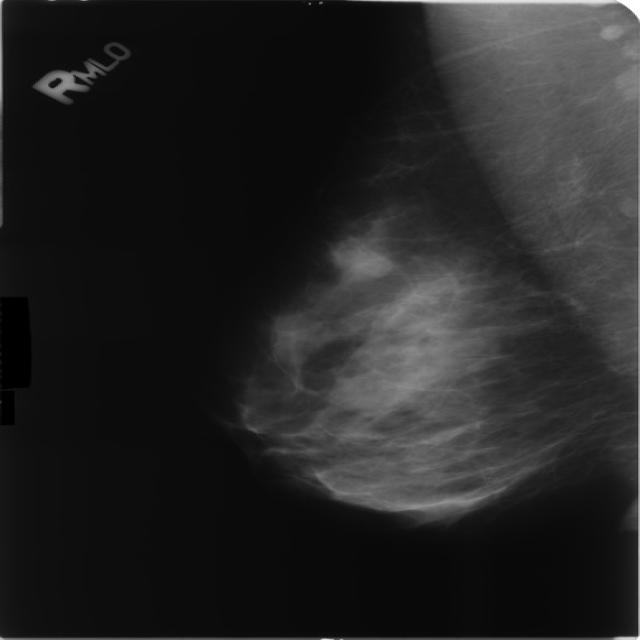tumour: (326, 238, 390, 278)
